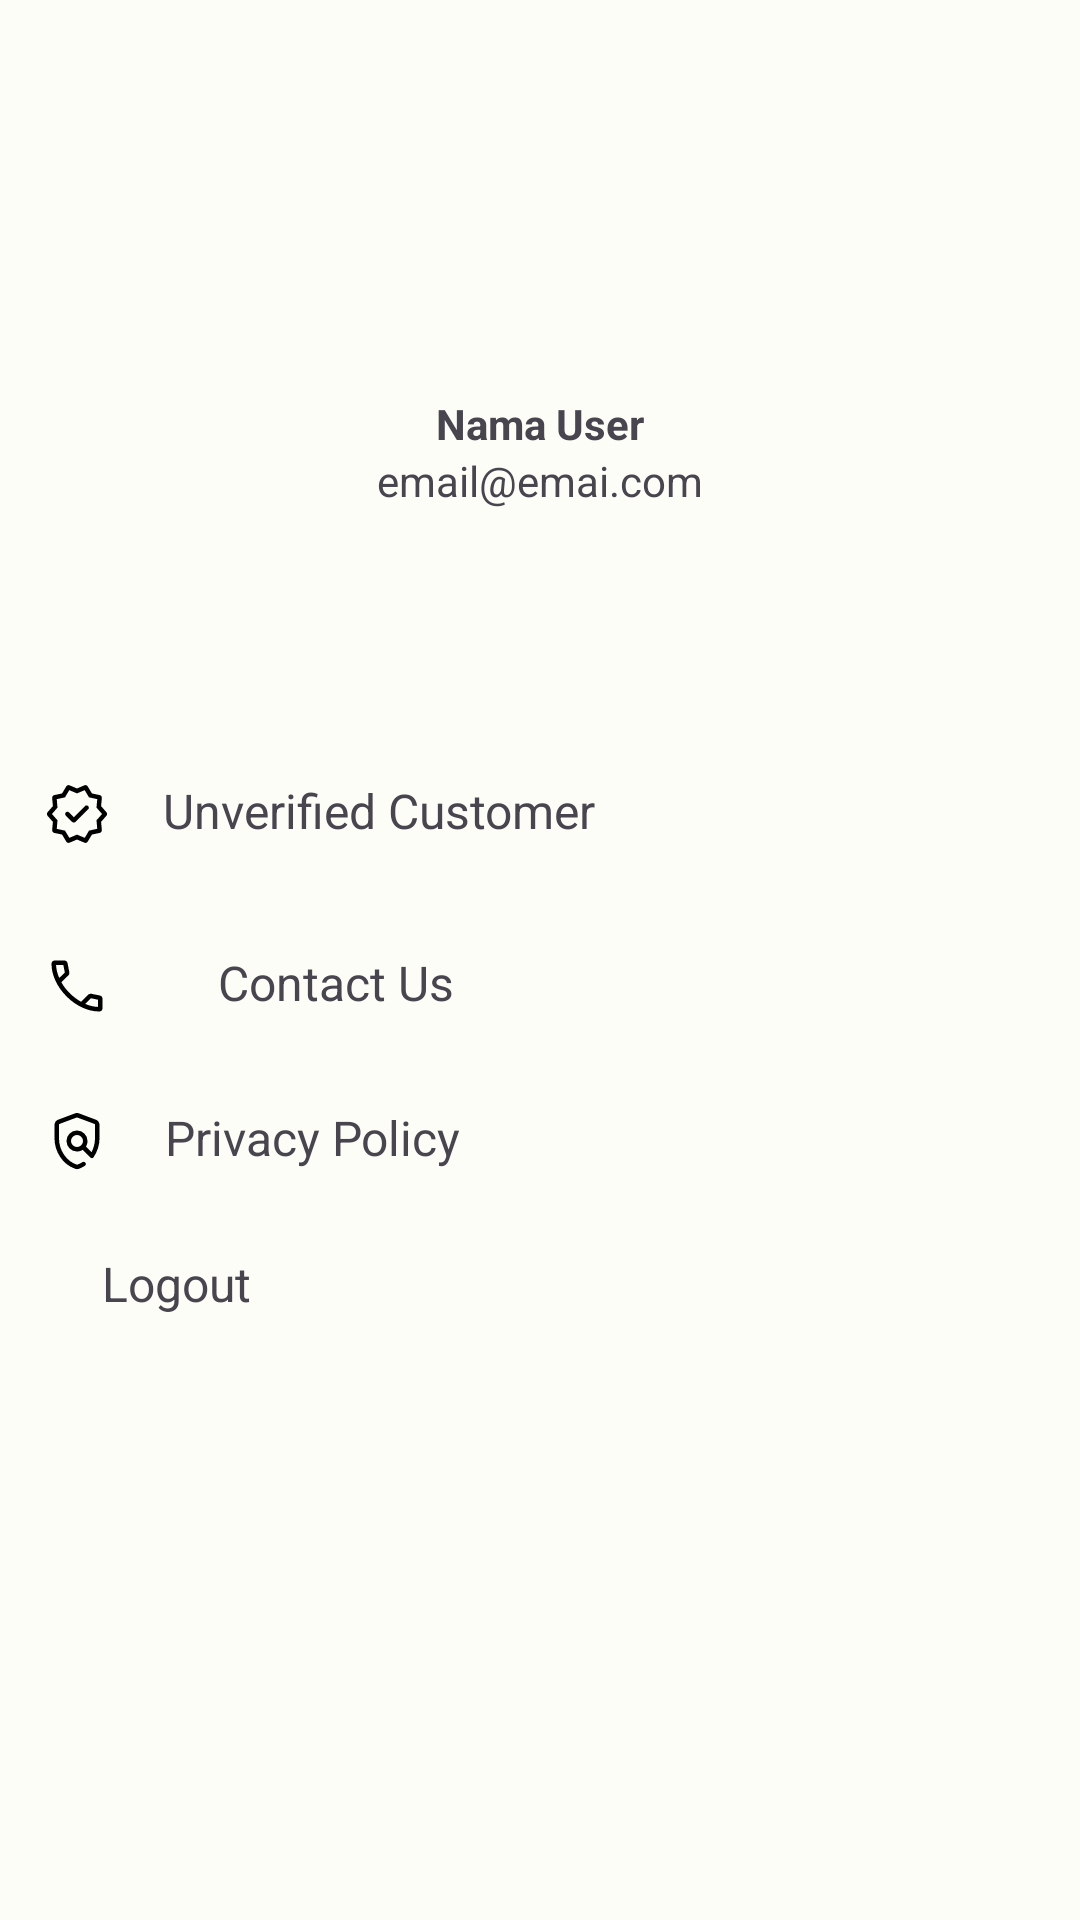

Icons on this 1080px x 1920px Android screen, each with its box as (x1=x1, y1=y1, x2=x2, y2=y2):
call: (x1=51, y1=960, x2=103, y2=1012)
